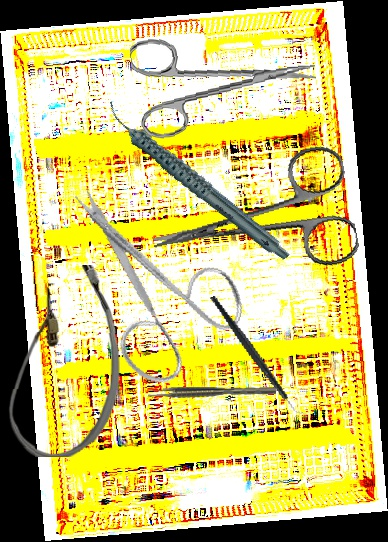Cannula: (7, 264, 122, 458)
Chopper: (208, 279, 310, 433)
Handpiece: (103, 71, 291, 291)
Iris Scissors: (32, 183, 263, 399), (141, 140, 362, 299), (128, 25, 321, 141)
Tissue Forceps: (148, 387, 276, 398)
